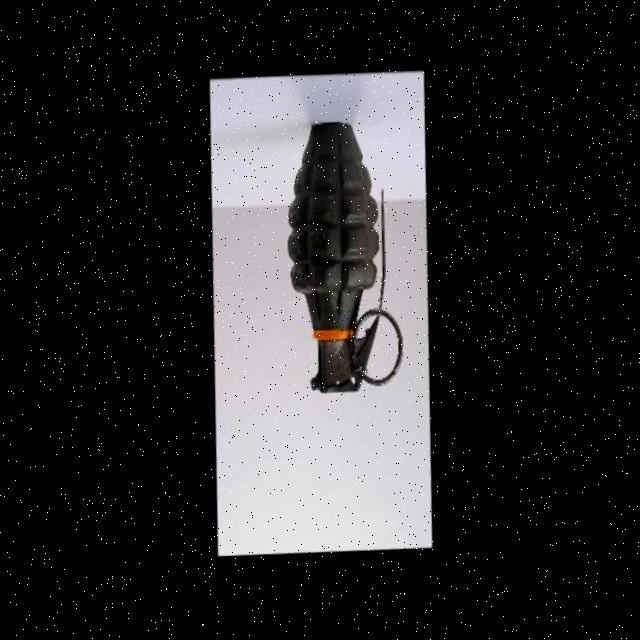grenade: (258, 83, 419, 419)
